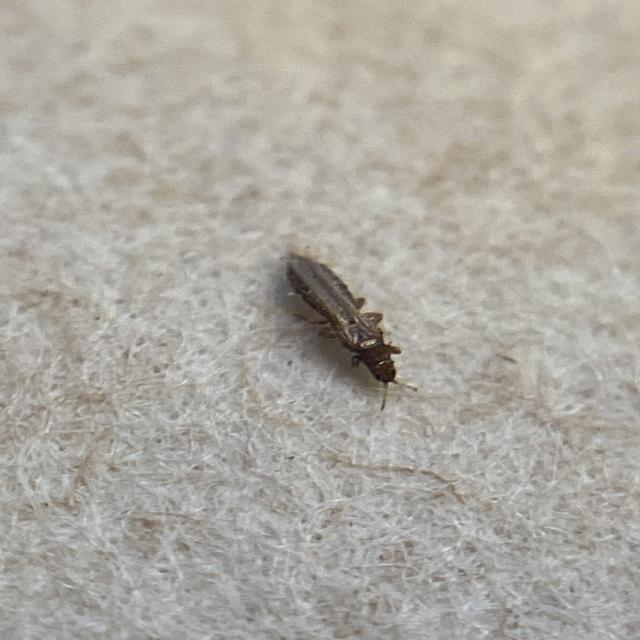Thrip-Adult-: (261, 233, 437, 412)
